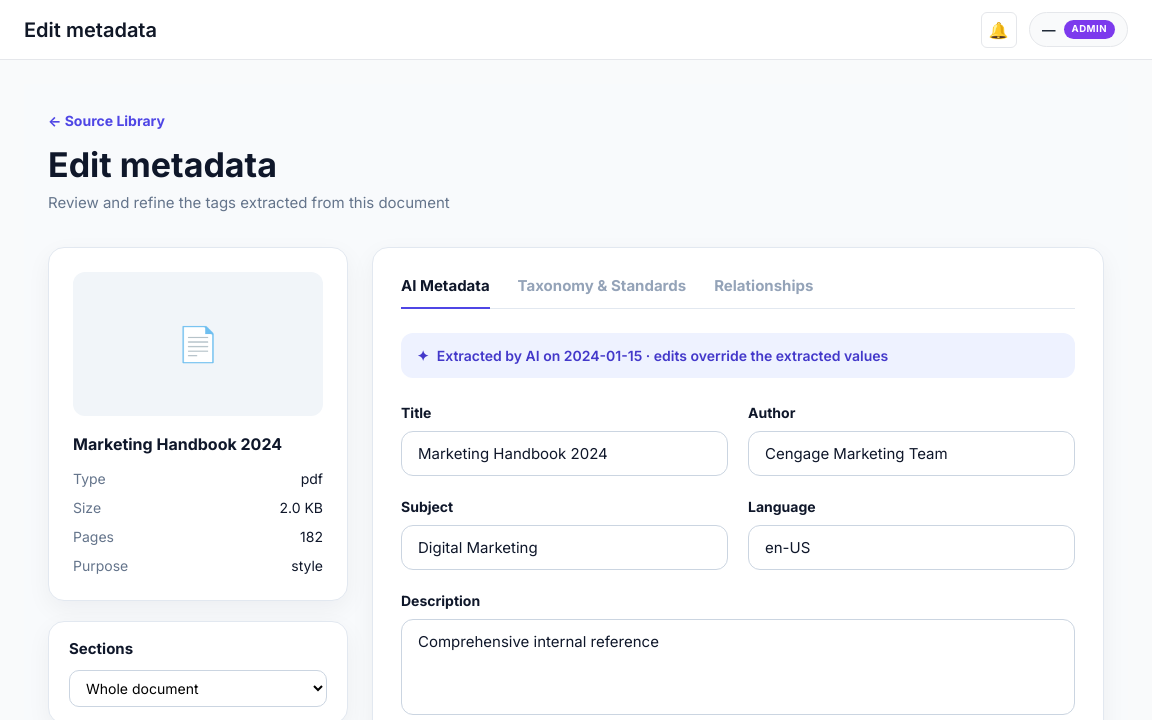
Test: MetadataEditorPage › shows unsaved changes when editing
Replace the text in the field showing "Marketing Handbook 2024" below "Title" with "Changed Title". click: (564, 453)
box: [401,431,728,476]
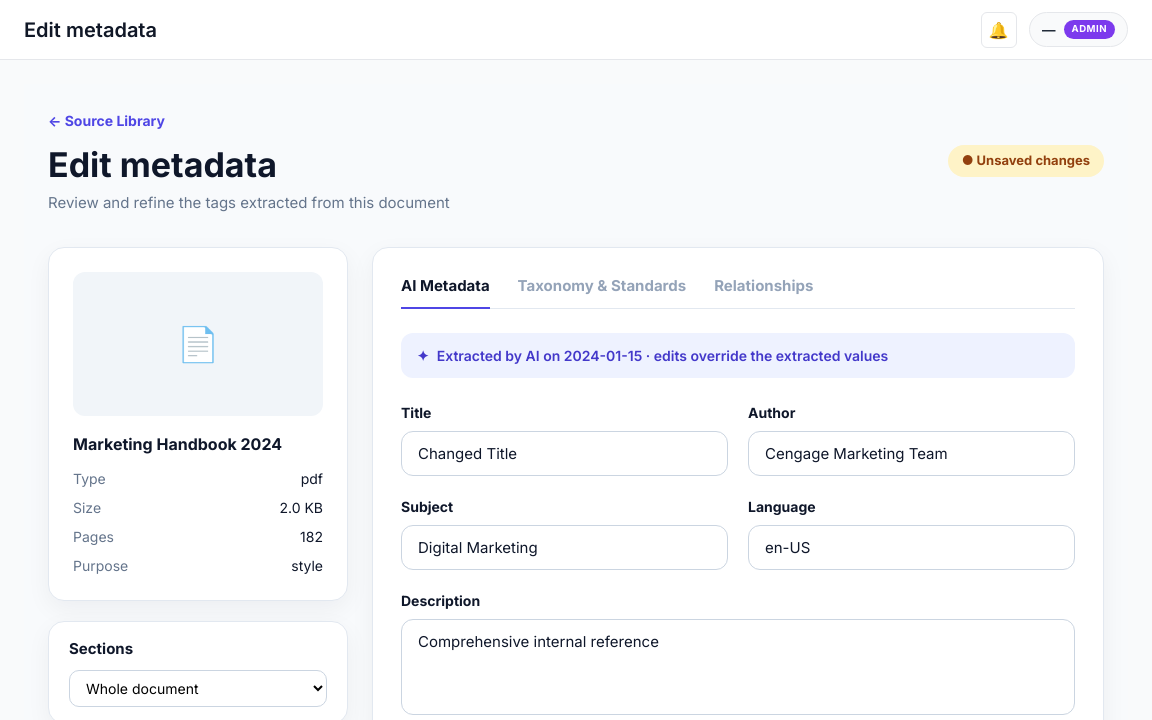
Result: the text "● Unsaved changes" is shown at [948,145,1104,176]
